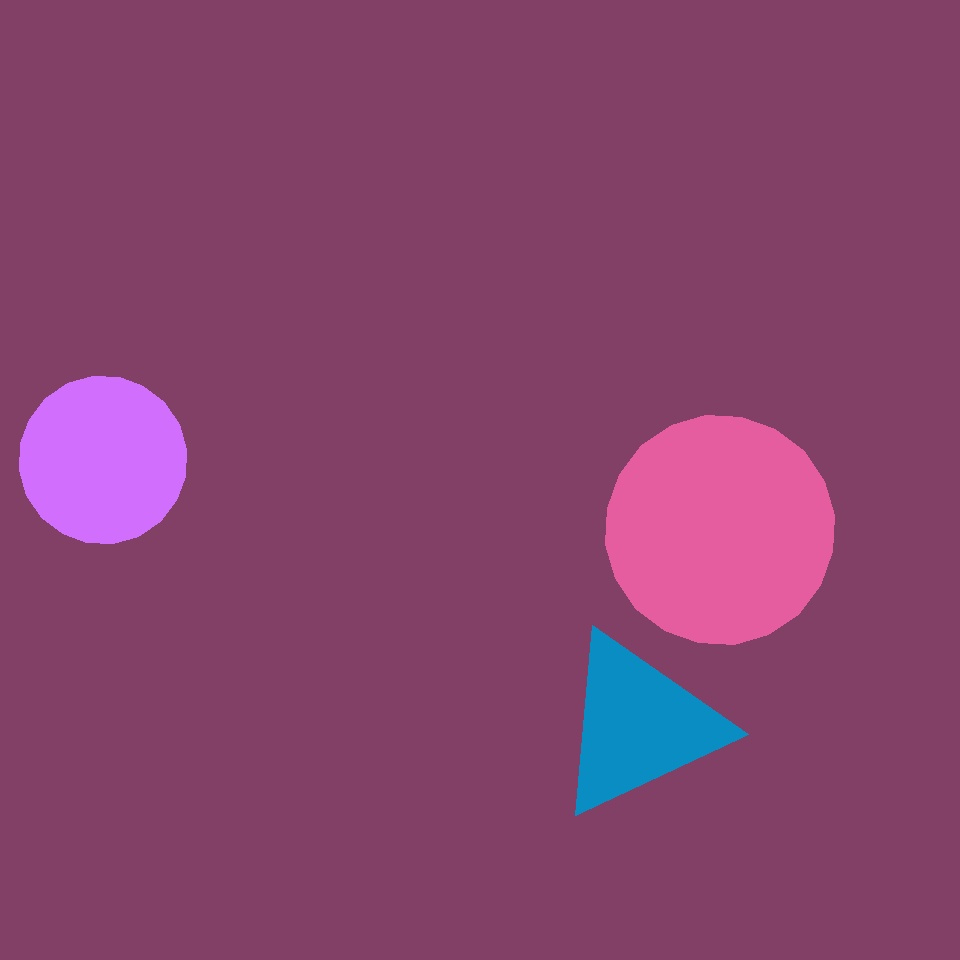circle: (250, 212, 576, 502), (160, 649, 454, 925), (552, 630, 726, 820)
square: (181, 706, 299, 823)
triangle: (606, 416, 834, 644), (32, 289, 210, 468), (19, 376, 186, 544), (174, 546, 268, 640)
